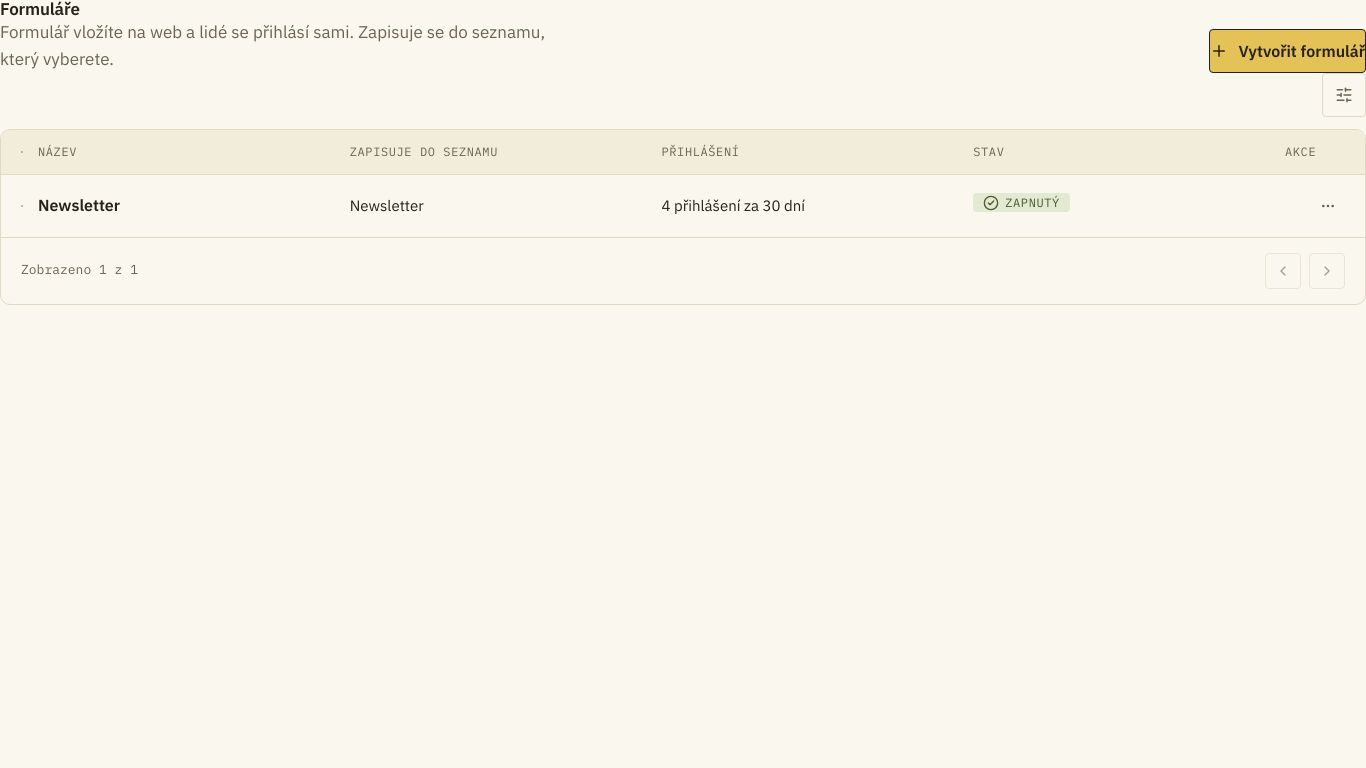
nabídka „…" v řádku formuláře › selhání mazání řekne důvod ze serveru
This screenshot has width=1366, height=768.
Click the button named "Další akce s formulářem" at (1328, 206), box [1311, 189, 1345, 223]
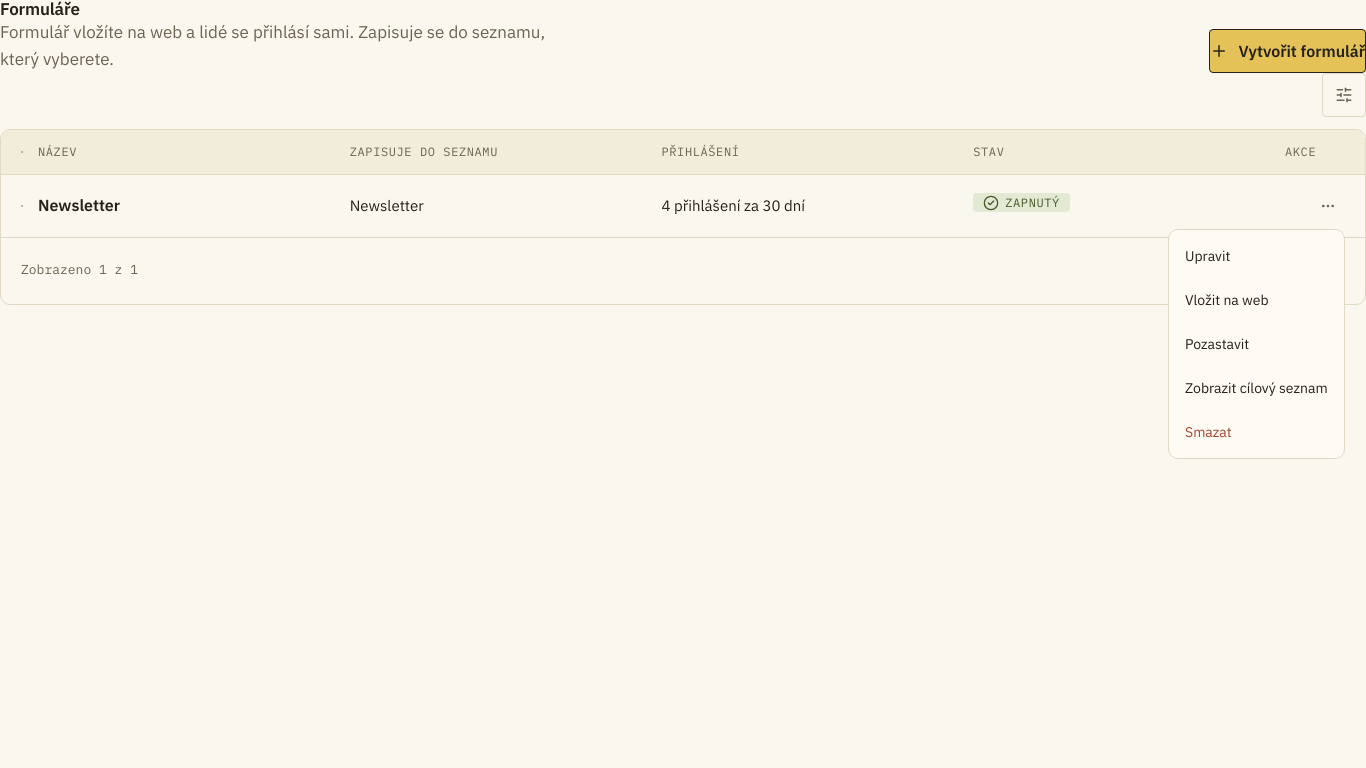
Click the menu item "Smazat" at (1208, 432), box [1185, 423, 1232, 441]
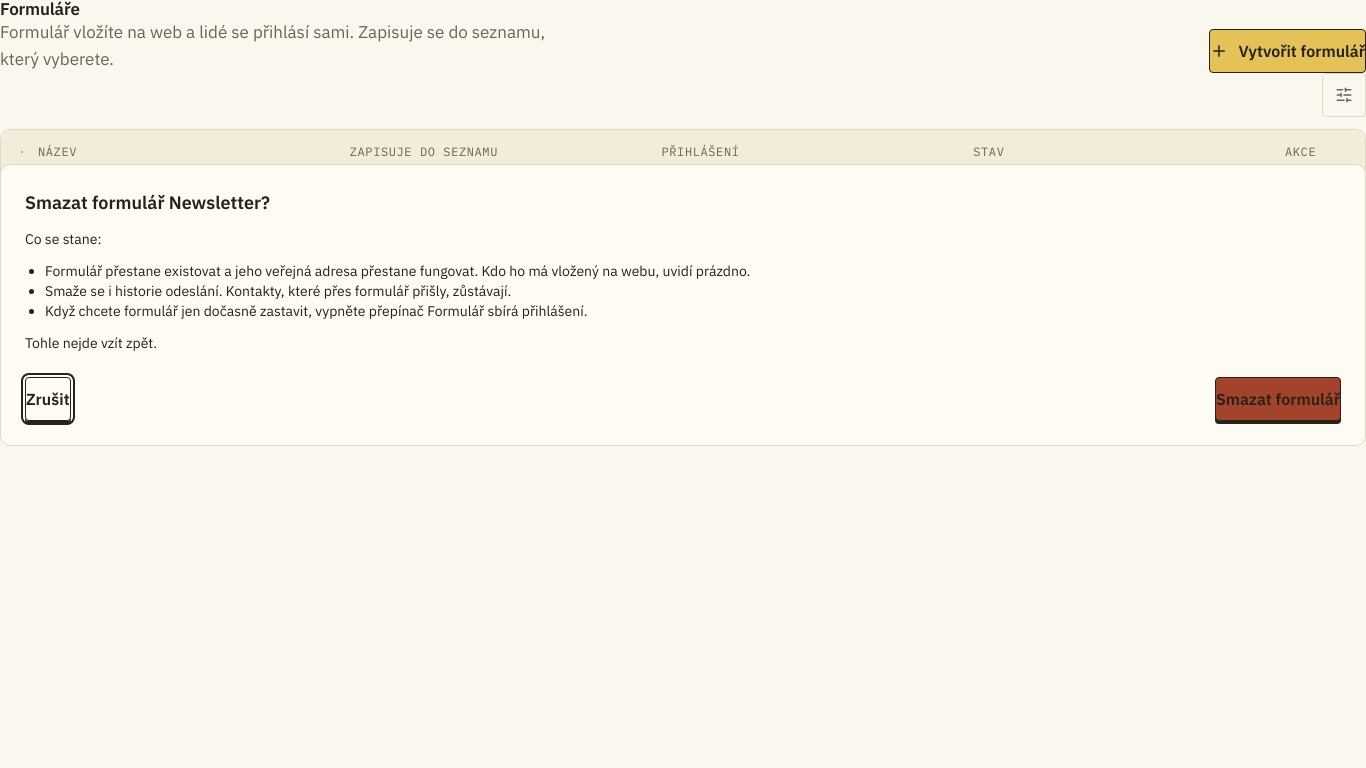
Click the button "Smazat formulář" at (1278, 399), box [1215, 377, 1341, 421]
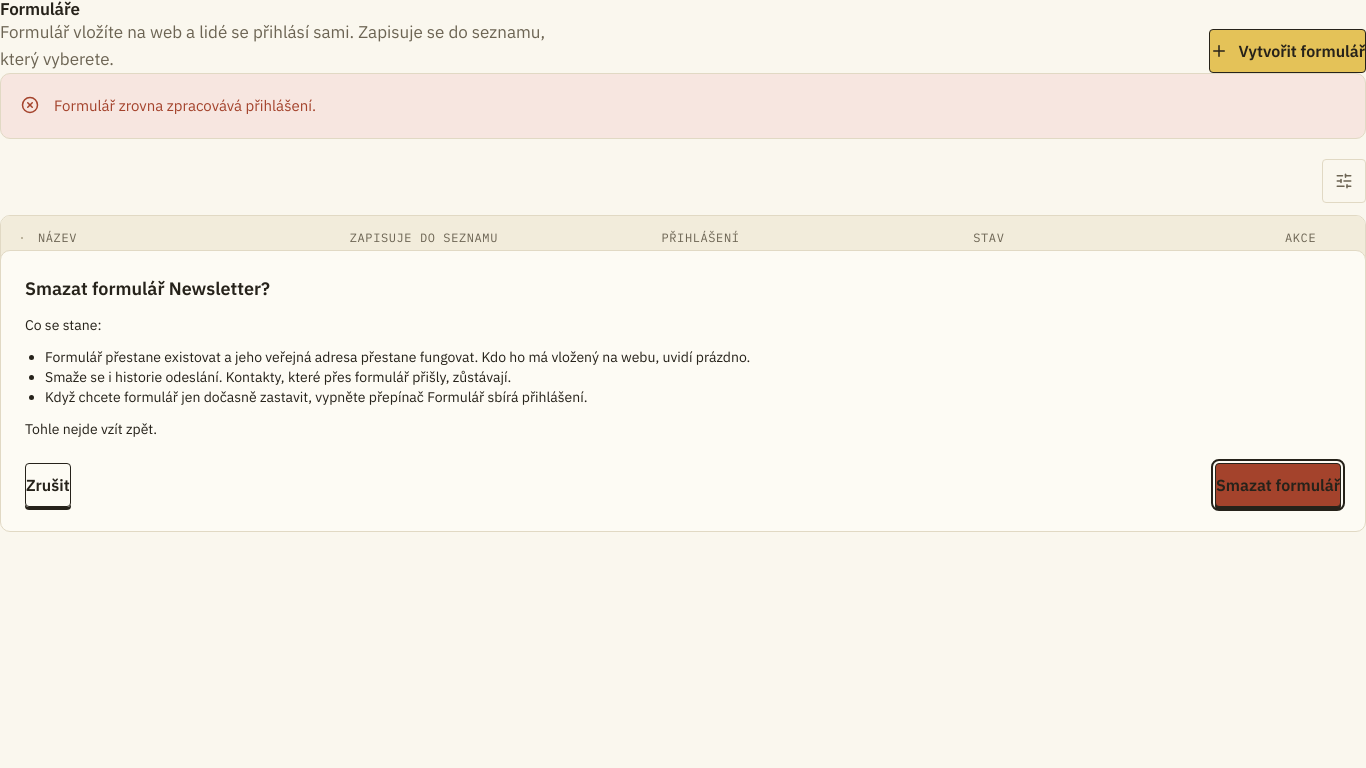
expect the message with test id "forms-error" reads "Formulář zrovna zpracovává přihlášení.": met, box [54, 96, 316, 115]
